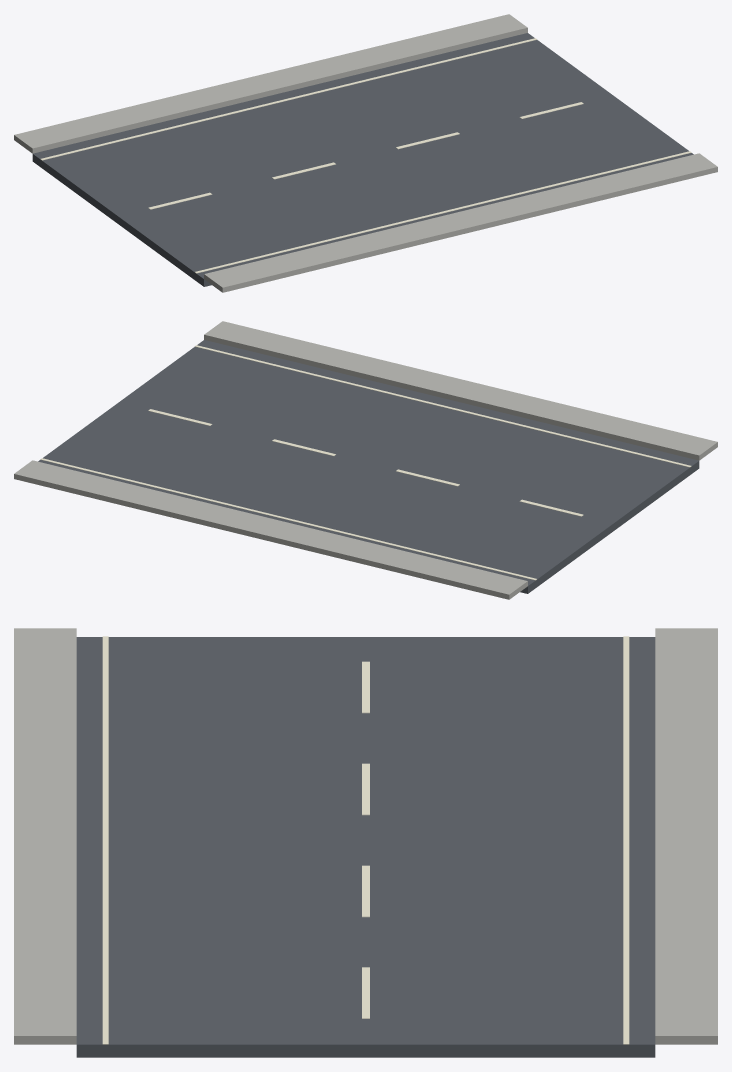
The model's file is road_tile.glb.
3 renders of one model, top to bottom at view 1: azimuth 30°, elevation 25°; view 2: azimuth 150°, elevation 25°; view 3: azimuth 270°, elevation 25°, orthographic. The views are drawn at different scales.
Parts seen in each view (by area): view 1: Road surface, Sidewalk, Sidewalk.001, Edge marking.001, Edge marking; view 2: Road surface, Sidewalk, Sidewalk.001, Edge marking, Edge marking.001; view 3: Road surface, Sidewalk, Sidewalk.001, Edge marking, Edge marking.001.
Part boxes in pixels (x1,y1,x2,y2): Road surface: [32, 33, 693, 286]; Sidewalk: [204, 153, 717, 292]; Sidewalk.001: [14, 14, 527, 153]; Edge marking.001: [40, 38, 536, 160]; Edge marking: [195, 151, 691, 273]; Road surface: [38, 340, 699, 593]; Sidewalk: [204, 321, 717, 460]; Sidewalk.001: [14, 460, 527, 599]; Edge marking: [195, 345, 691, 467]; Edge marking.001: [40, 458, 536, 580]; Road surface: [76, 637, 655, 1057]; Sidewalk: [14, 628, 76, 1044]; Sidewalk.001: [655, 628, 717, 1044]; Edge marking: [102, 636, 108, 1044]; Edge marking.001: [623, 636, 629, 1044].
Size of the model in its own units: 20 by 0.5 by 14.6.
